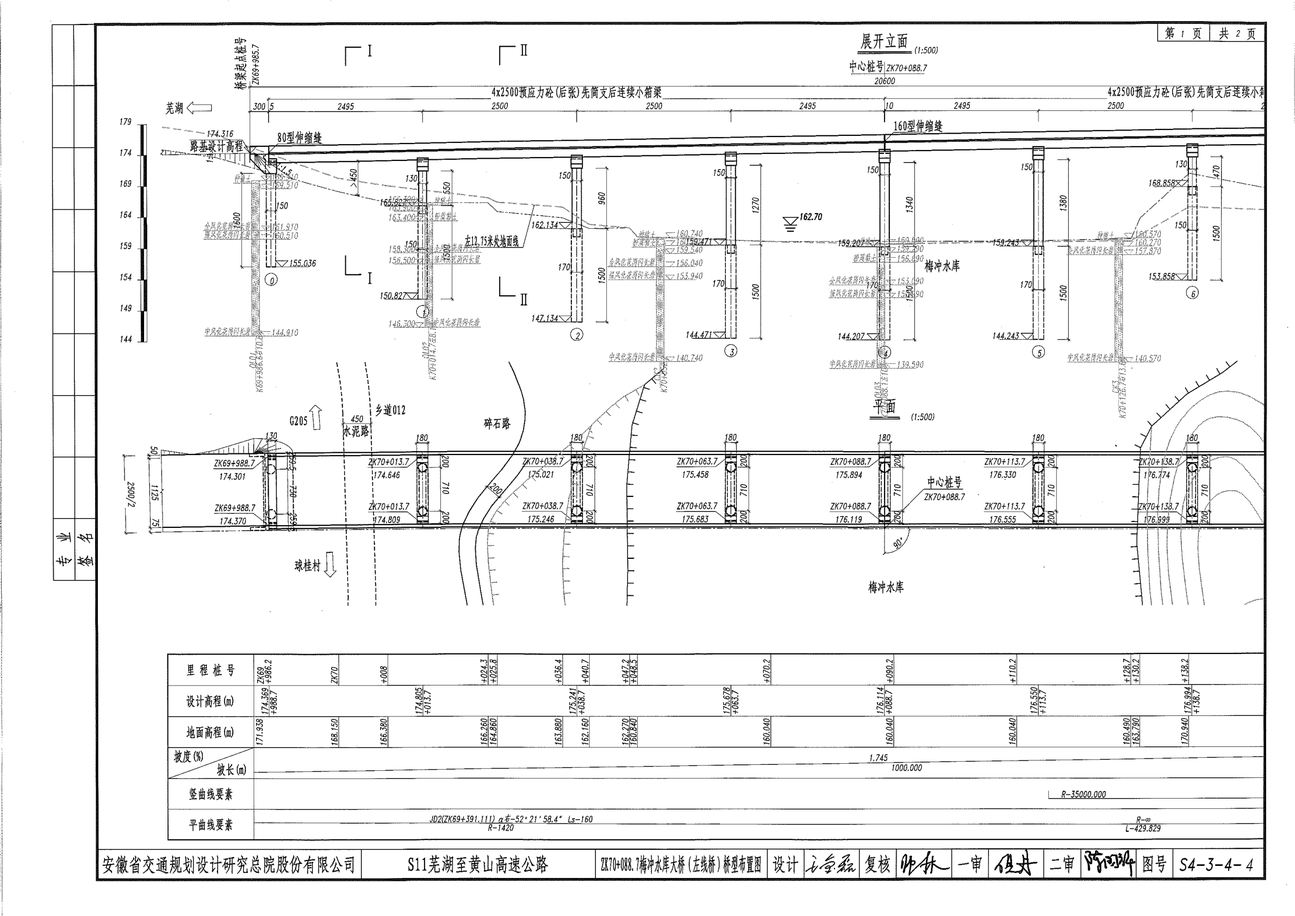A: (113, 31, 1269, 389)
